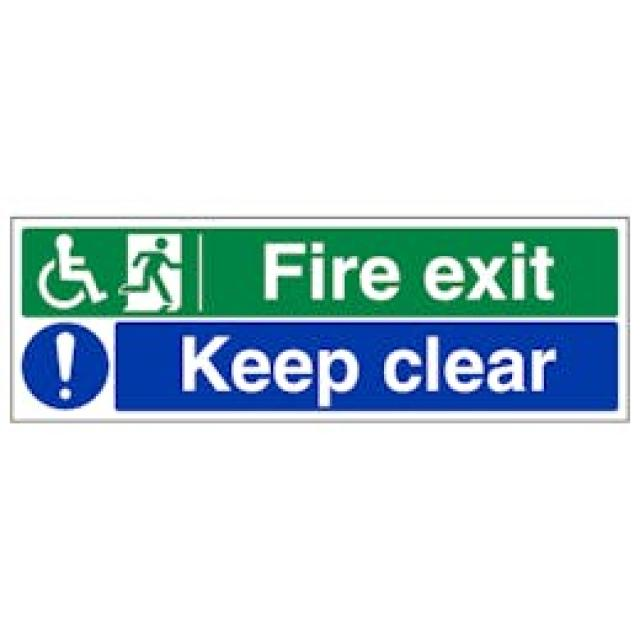exit_sign: (0, 183, 639, 447)
